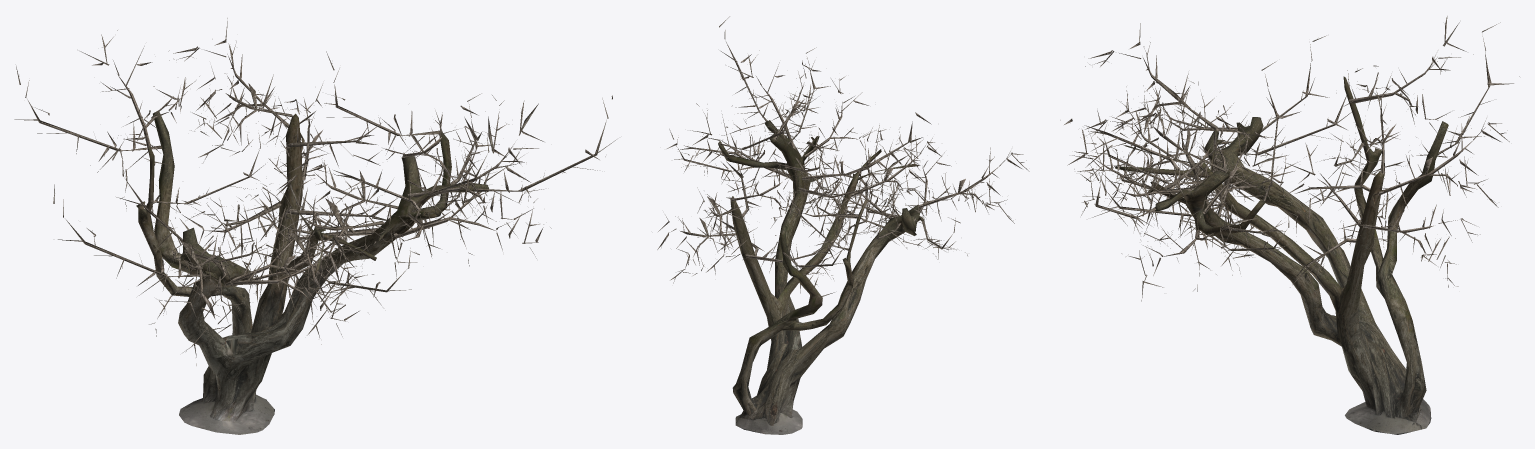
The model's file is island_tree_02_bare.glb.
3 renders of one model, left to right at view 1: azimuth 30°, elevation 25°; view 2: azimuth 150°, elevation 25°; view 3: azimuth 270°, elevation 25°, orthographic. The views are drawn at different scales.
Visible parts, largest first — view 1: island_tree_02_bare; view 2: island_tree_02_bare; view 3: island_tree_02_bare.
Boxes of the visible parts, box(x1,y1,x2,y2) form: island_tree_02_bare: box(14, 18, 616, 434); island_tree_02_bare: box(657, 16, 1029, 434); island_tree_02_bare: box(1060, 16, 1519, 434).
Bounding box in the file's own units: 3.95 × 3.35 × 3.75.
2 materials, 2 textured.
